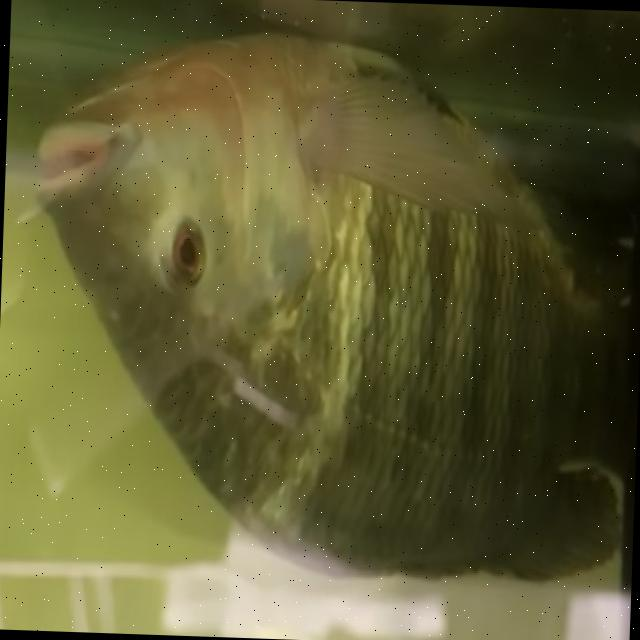ikan: (9, 20, 640, 594)
